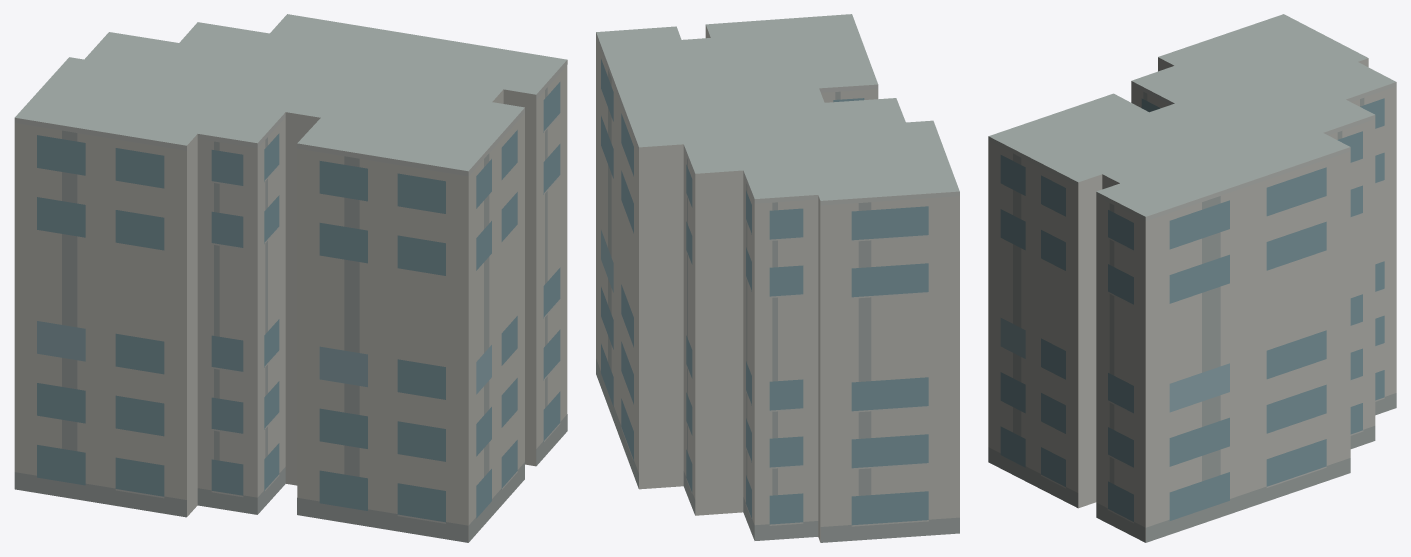
The model's file is survey-upis-32763771.glb.
3 renders of one model, left to right at view 1: azimuth 30°, elevation 25°; view 2: azimuth 150°, elevation 25°; view 3: azimuth 270°, elevation 25°, orthographic. The views are drawn at different scales.
Parts seen in each view (by area): view 1: survey-upis-32763771.tmp; view 2: survey-upis-32763771.tmp; view 3: survey-upis-32763771.tmp.
Boxes of the visible parts, x1=… form: survey-upis-32763771.tmp: x1=14, y1=14, x2=567, y2=542; survey-upis-32763771.tmp: x1=596, y1=14, x2=959, y2=542; survey-upis-32763771.tmp: x1=988, y1=14, x2=1396, y2=542.
Bounding box in the file's own units: 23.5 × 17.6 × 19.98.
